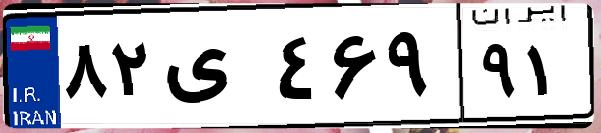1: (525, 38, 570, 115)
2: (110, 28, 158, 98)
4: (270, 28, 330, 110)
6: (330, 28, 385, 110)
8: (57, 26, 110, 100)
9: (385, 28, 445, 110), (475, 38, 525, 113)
ی: (158, 20, 270, 120)
